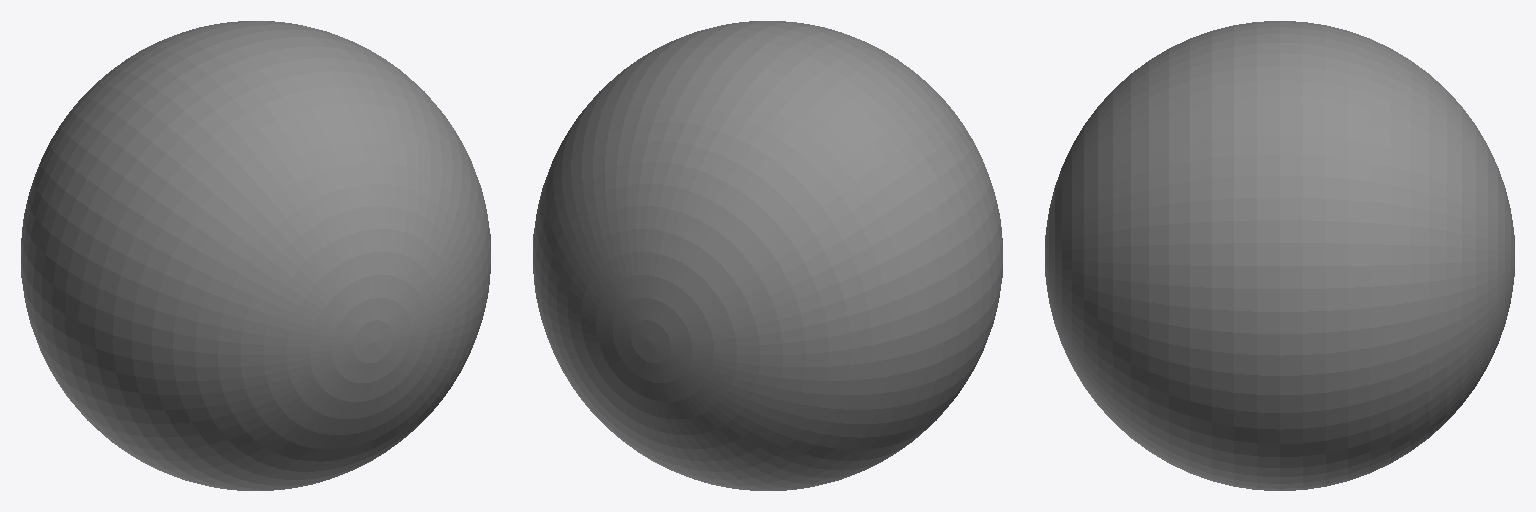
The model's file is skybox_sphere_hiPoly.obj.
3 views of the same model, side by side, from view 1: azimuth 30°, elevation 25°; view 2: azimuth 150°, elevation 25°; view 3: azimuth 270°, elevation 25° (orthographic).
Parts seen in each view (by area): view 1: skybox; view 2: skybox; view 3: skybox.
Part boxes in pixels (x1,y1,x2,y2): skybox: (21,21,490,490); skybox: (533,21,1002,490); skybox: (1045,21,1514,490).
Bounding box in the file's own units: 20000 × 20000 × 20000.